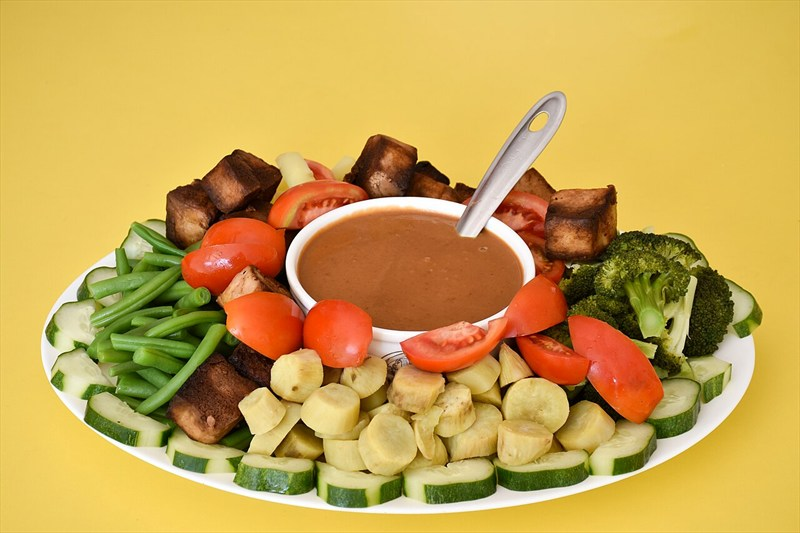Gado-Gado: (102, 150, 713, 494)
